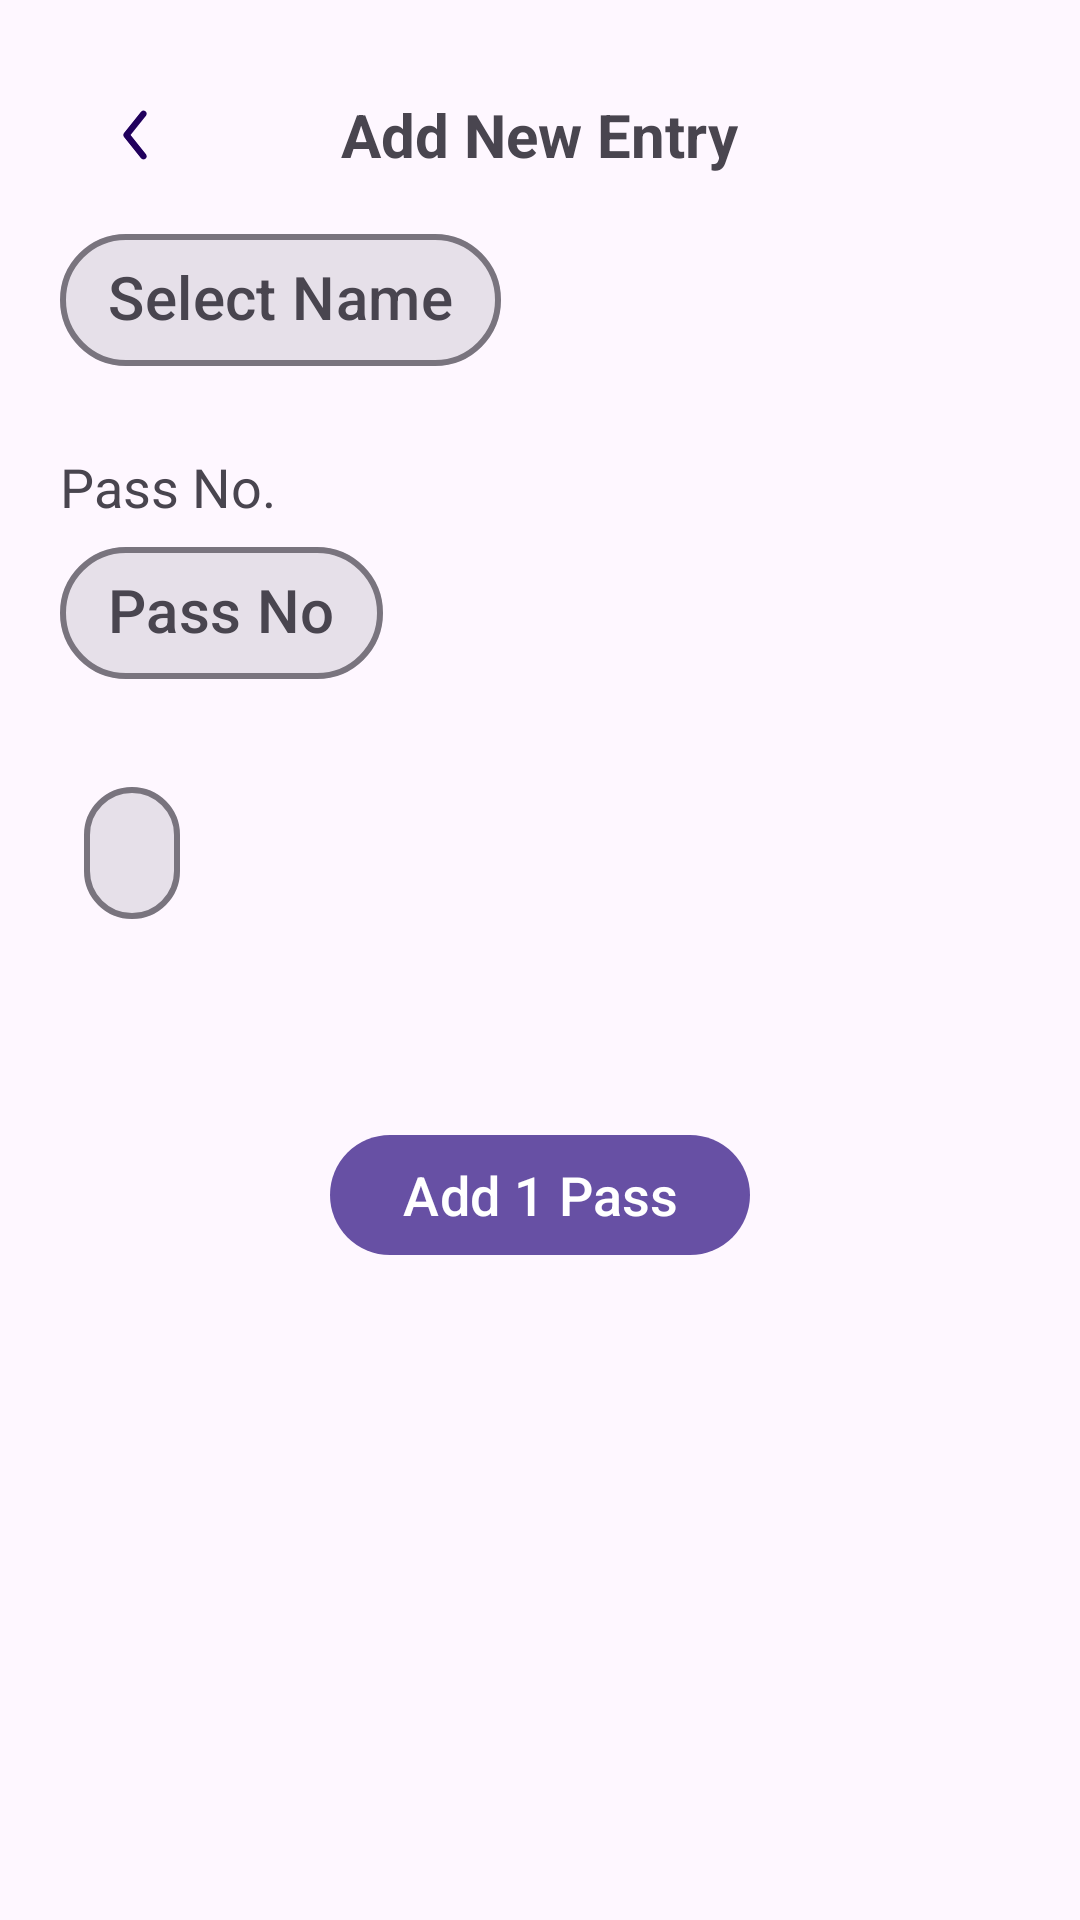

Icons on this 1080px×1920px Android screen, each with the point to tap as [x,y]:
left: [135,135]
